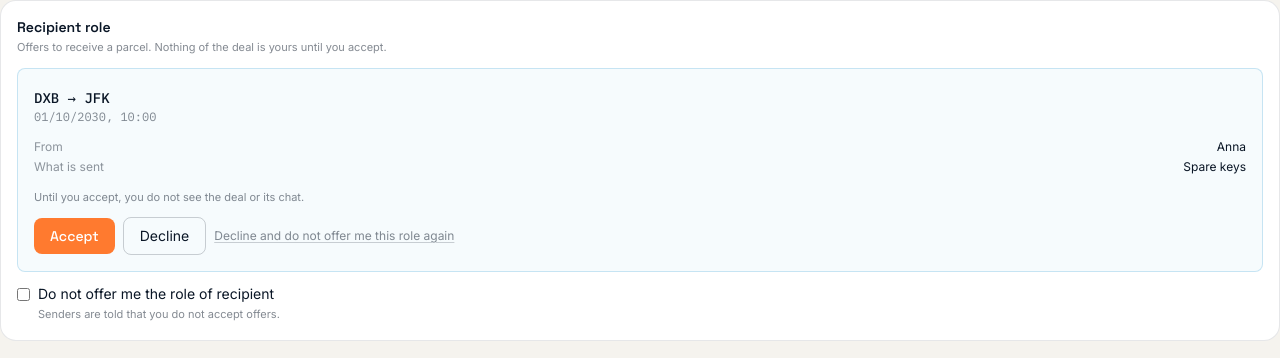
it: RecipientOfferSection › lists the open offers and a plain decline keeps the setting as it was
This screenshot has width=1280, height=358.
expect the element with test id "recipient-offer" is shown: met, box [17, 68, 1263, 272]
Click the button "Decline". click: (165, 236)
box: [123, 217, 206, 255]
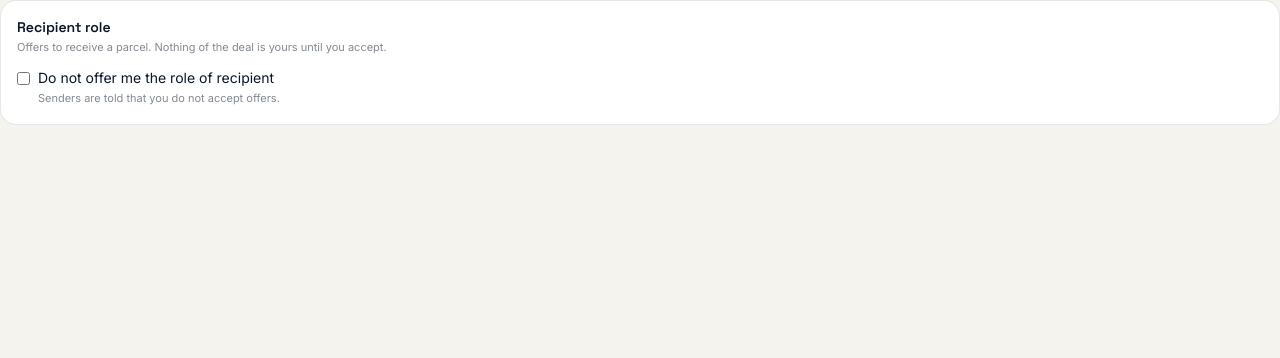
expect the element with test id "recipient-offer" is gone: met
